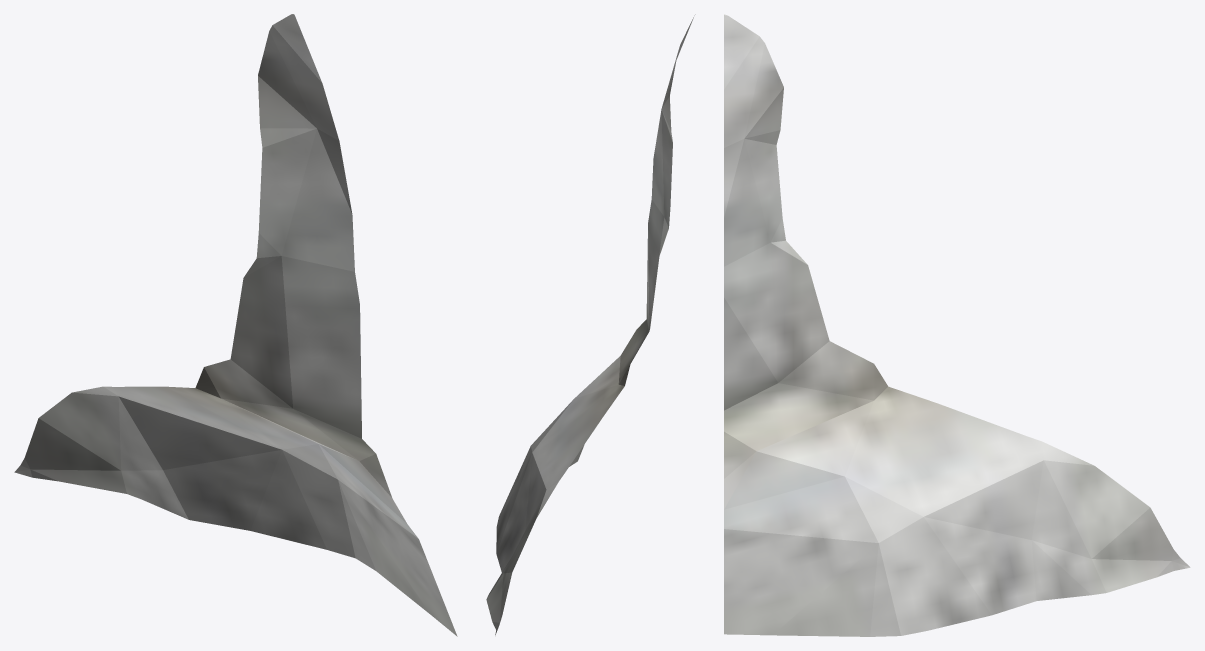
The picture shows the model from 3 angles, left to right: view 1: azimuth 30°, elevation 25°; view 2: azimuth 150°, elevation 25°; view 3: azimuth 270°, elevation 25°; orthographic projection. The views are drawn at different scales.
Bounding box in the file's own units: 0.1898 × 0.7067 × 0.5401.
Materials: 1 (1 with a texture image).
